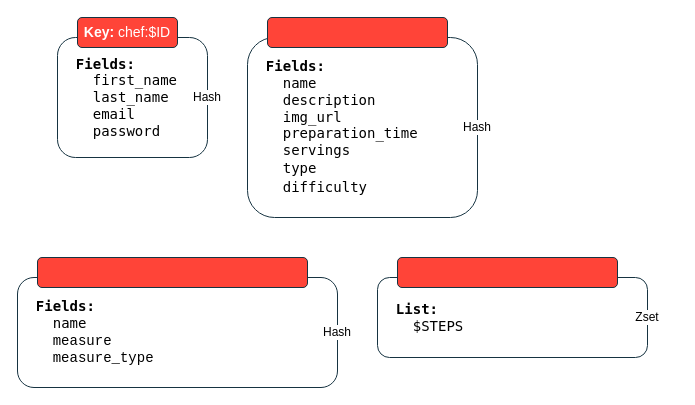
This 695x405 diagram has some shape labels left out. Each missing label, with the centre of its shape:
Key: chef:$ID:recipe:$ID: (x=357, y=32)
Key: chef:$ID:recipe:$ID:ingredients:$ID: (x=172, y=272)
Key: chef:$ID:recipe:$ID:method: (x=507, y=272)
